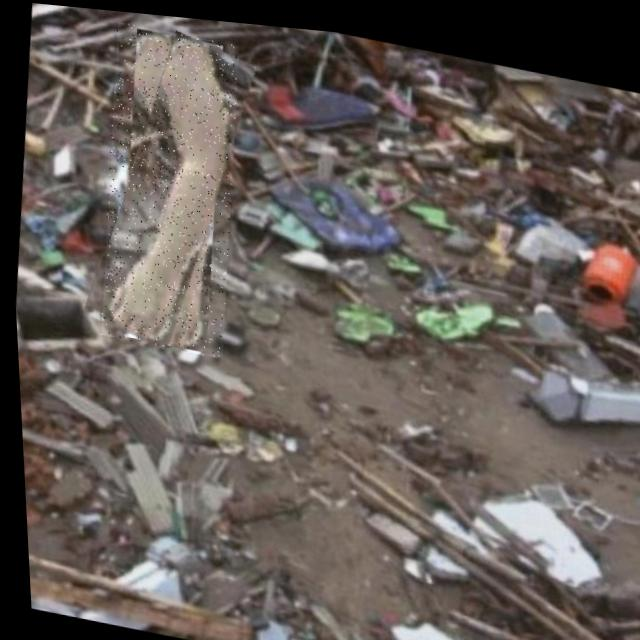Person in Rubble: (83, 16, 251, 357)
